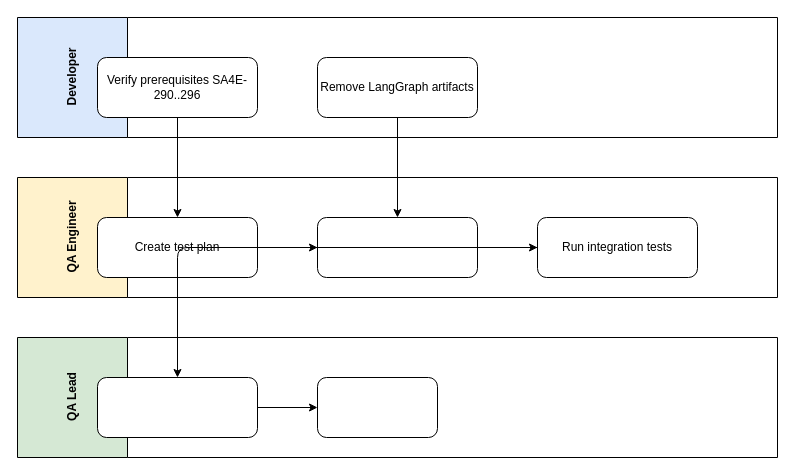
The diagram is 795 pixels wide and 475 high, and some of its shapes have lost their labels. Each missing label, with the centre of its shape:
Review test reports: (177,407)
Run unit tests: (397,247)
Sign-off: (377,407)
